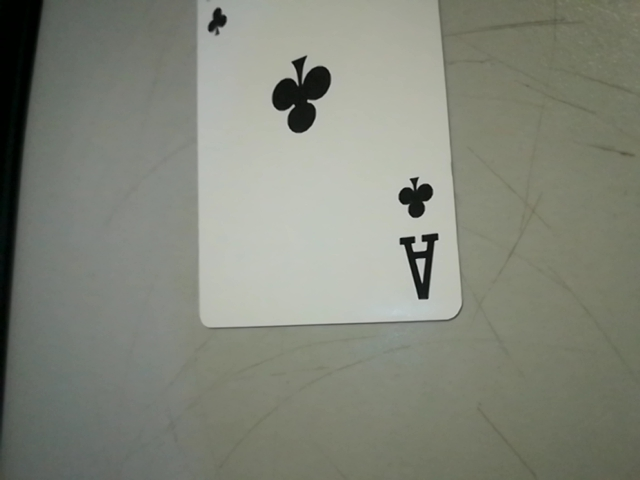mh a: (383, 163, 449, 312)
